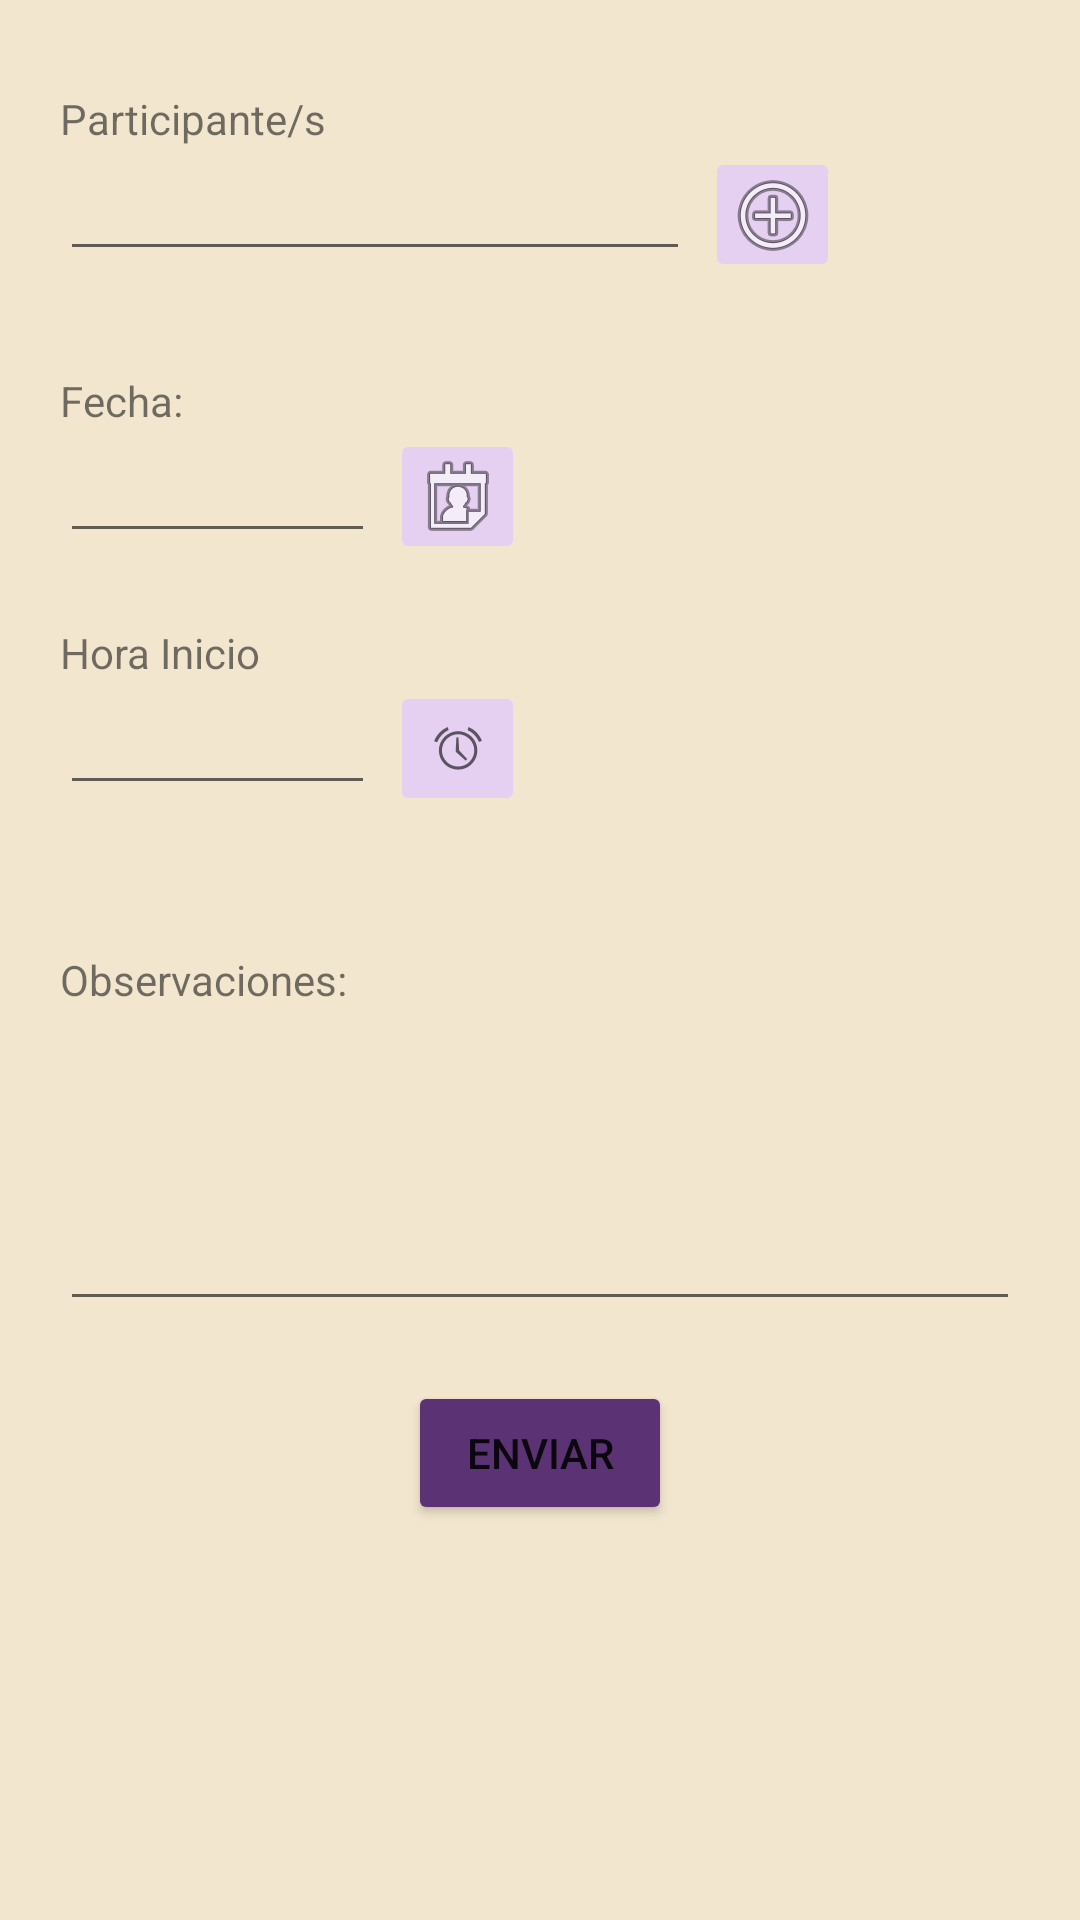

Icon bounding boxes for this 1080 x 1920 phone screenshot, format (x1, y1, x2, y2):
add: (717, 165, 828, 264)
calendar: (402, 447, 513, 546)
